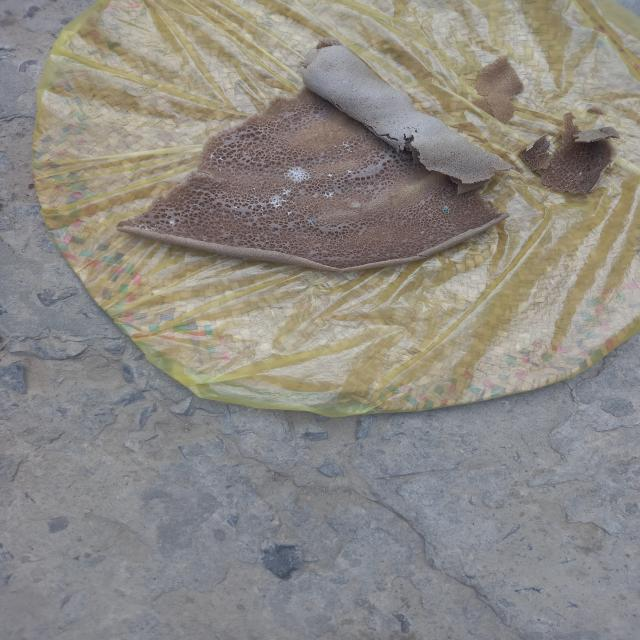injera_mold: (282, 166, 313, 185), (127, 221, 161, 234), (335, 142, 358, 157), (266, 196, 289, 208), (318, 189, 339, 199), (207, 153, 226, 163), (441, 203, 455, 216), (165, 218, 178, 227), (327, 172, 336, 178)
